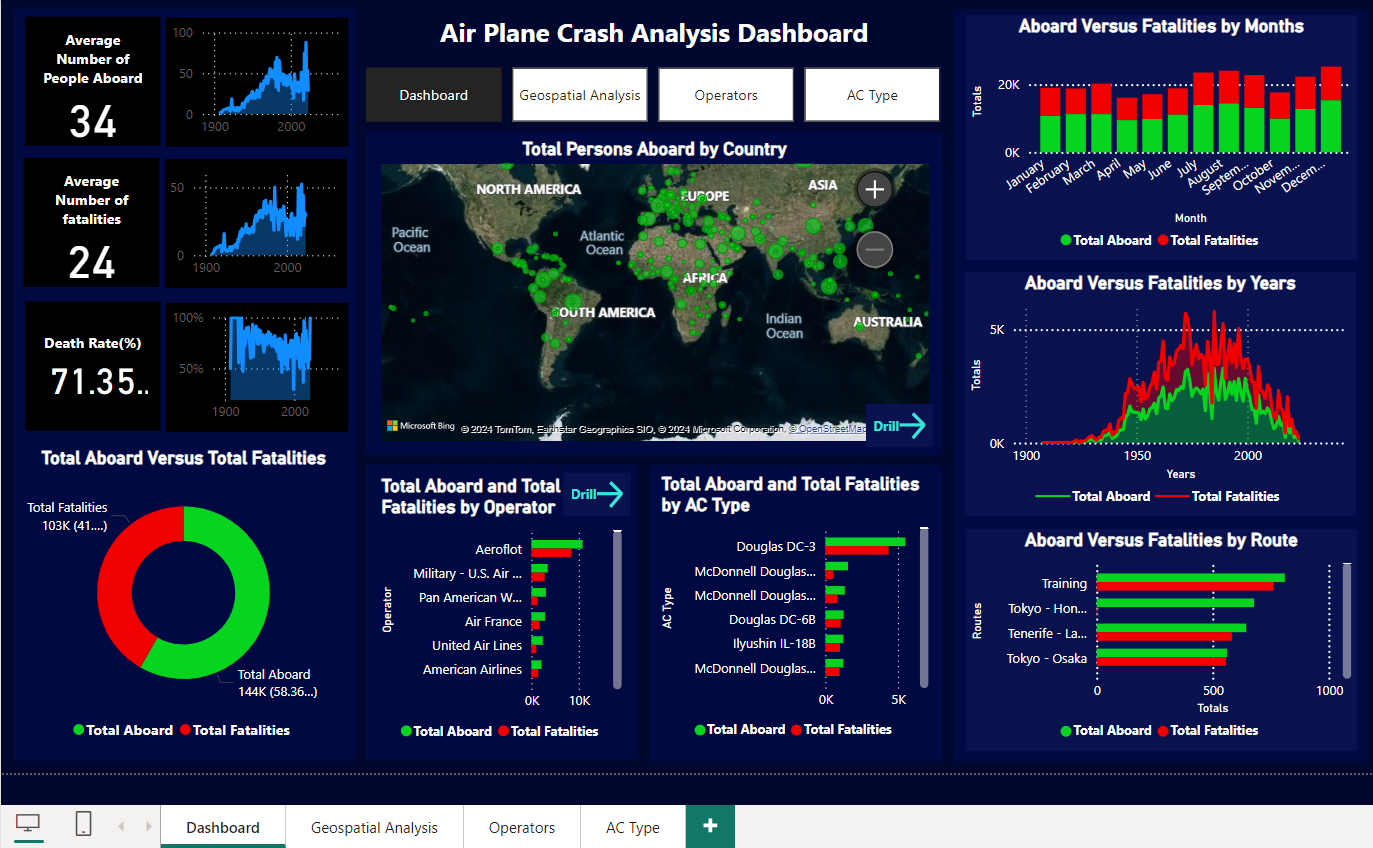

The page's visual inventory and layout, read from the dashboard file:
{"tool":"powerbi","page":{"name":"Dashboard","canvas":[1280,720],"ordinal":0},"visuals":[{"type":"shape","box":[11.6,9.3,318.6,698.8],"z":0},{"type":"shape","box":[885.9,10.5,384.7,699.2],"z":1000},{"type":"shape","box":[339.5,432.6,252.3,275.6],"z":2000},{"type":"shape","box":[603.5,433.7,272.1,275.6],"z":3000},{"type":"shape","box":[339.5,123.3,536,301.2],"z":4000},{"type":"pageNavigator","box":[339.5,64,536,50],"z":5000},{"type":"textbox","box":[339.5,9.3,536,45.3],"z":6000},{"type":"cardVisual","title":"Average Number of People Aboard","fields":{"Data":["Measure Table.Average Aboard"]},"box":[17,11.3,136,125.6],"z":7000},{"type":"areaChart","fields":{"Y":["Measure Table.Average Aboard"],"Category":["Date.Year"]},"box":[153,17.1,169.8,119.8],"z":8000},{"type":"cardVisual","title":"Average Number of People Aboard","fields":{"Data":["Measure Table.Average Number of fatalities"]},"box":[16.6,143.3,136,125.6],"z":9000},{"type":"areaChart","fields":{"Category":["Date.Year"],"Y":["Measure Table.Average Number of fatalities"]},"box":[152.7,149.1,169.8,119.8],"z":10000},{"type":"cardVisual","title":"Average Number of People Aboard","fields":{"Data":["Measure Table.Death Rate(%)"]},"box":[17.7,277.3,136,125.6],"z":11000},{"type":"areaChart","fields":{"Category":["Date.Year"],"Y":["Measure Table.Death Rate(%)"]},"box":[153.8,283.1,169.8,119.8],"z":12000},{"type":"clusteredBarChart","title":"Total Aboard and Total Fatalities by Operator","fields":{"Category":["Airplane Crashes Analysis.Operator"],"Y":["Sum(Airplane Crashes Analysis.Aboard)","Sum(Airplane Crashes Analysis.Fatalities)"]},"box":[348.8,442.5,233.8,256.2],"z":13000},{"type":"map","title":"Total Persons Aboard by Country","fields":{"Category":["Airplane Crashes Analysis.Country"],"Size":["Sum(Airplane Crashes Analysis.Aboard)"]},"box":[348.8,129.1,518.6,287.2],"z":14000},{"type":"clusteredBarChart","title":"Total Aboard and Total Fatalities by AC Type","fields":{"Y":["Sum(Airplane Crashes Analysis.Aboard)","Sum(Airplane Crashes Analysis.Fatalities)"],"Category":["Airplane Crashes Analysis.AC Type"]},"box":[608.8,441.2,258.8,257.5],"z":15000},{"type":"lineStackedColumnComboChart","title":"Aboard Versus Fatalities by Months","fields":{"Y":["Sum(Airplane Crashes Analysis.Aboard)","Sum(Airplane Crashes Analysis.Fatalities)"],"Category":["Date.Month Name"]},"box":[897.5,15,363.8,227.5],"z":16000},{"type":"stackedAreaChart","title":"Aboard Versus Fatalities by Years","fields":{"Category":["Date.Year"],"Y":["Sum(Airplane Crashes Analysis.Aboard)","Sum(Airplane Crashes Analysis.Fatalities)"]},"box":[896.2,253.8,363.8,227.5],"z":17000},{"type":"clusteredBarChart","title":"Aboard Versus Fatalities by Route","fields":{"Category":["Airplane Crashes Analysis.Route"],"Y":["Sum(Airplane Crashes Analysis.Aboard)","Sum(Airplane Crashes Analysis.Fatalities)"]},"box":[897.5,492.5,363.8,206.2],"z":18000},{"type":"donutChart","title":"Total Aboard Versus Total Fatalities","fields":{"Y":["Sum(Airplane Crashes Analysis.Aboard)","Sum(Airplane Crashes Analysis.Fatalities)"]},"box":[17.5,416.2,305,282.5],"z":18001},{"type":"actionButton","title":"13224213","box":[523.8,441.2,62.5,40],"z":18002},{"type":"actionButton","title":"13224213","box":[805,376.2,62.5,40],"z":18003}]}

Visuals, with their boxes on the page's 1280x720 design canvas (x1, y1, x2, y2). These are canvas units, not pixel positions in the 1373x848 screenshot, which may show the page scaled, cropped or inside an application window:
shape: 12 9 330 708
shape: 886 10 1271 710
shape: 340 433 592 708
shape: 604 434 876 709
shape: 340 123 876 424
pageNavigator: 340 64 876 114
textbox: 340 9 876 55
"Average Number of People Aboard" cardVisual: 17 11 153 137
areaChart - Measure Table.Average Aboard x Date.Year: 153 17 323 137
"Average Number of People Aboard" cardVisual: 17 143 153 269
areaChart - Date.Year x Measure Table.Average Number of fatalities: 153 149 322 269
"Average Number of People Aboard" cardVisual: 18 277 154 403
areaChart - Date.Year x Measure Table.Death Rate(%): 154 283 324 403
"Total Aboard and Total Fatalities by Operator" clusteredBarChart: 349 442 583 699
"Total Persons Aboard by Country" map: 349 129 867 416
"Total Aboard and Total Fatalities by AC Type" clusteredBarChart: 609 441 868 699
"Aboard Versus Fatalities by Months" lineStackedColumnComboChart: 898 15 1261 242
"Aboard Versus Fatalities by Years" stackedAreaChart: 896 254 1260 481
"Aboard Versus Fatalities by Route" clusteredBarChart: 898 492 1261 699
"Total Aboard Versus Total Fatalities" donutChart: 18 416 322 699
"13224213" actionButton: 524 441 586 481
"13224213" actionButton: 805 376 868 416
